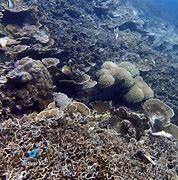bleached_corals: (92, 51, 163, 115), (49, 89, 73, 112)
